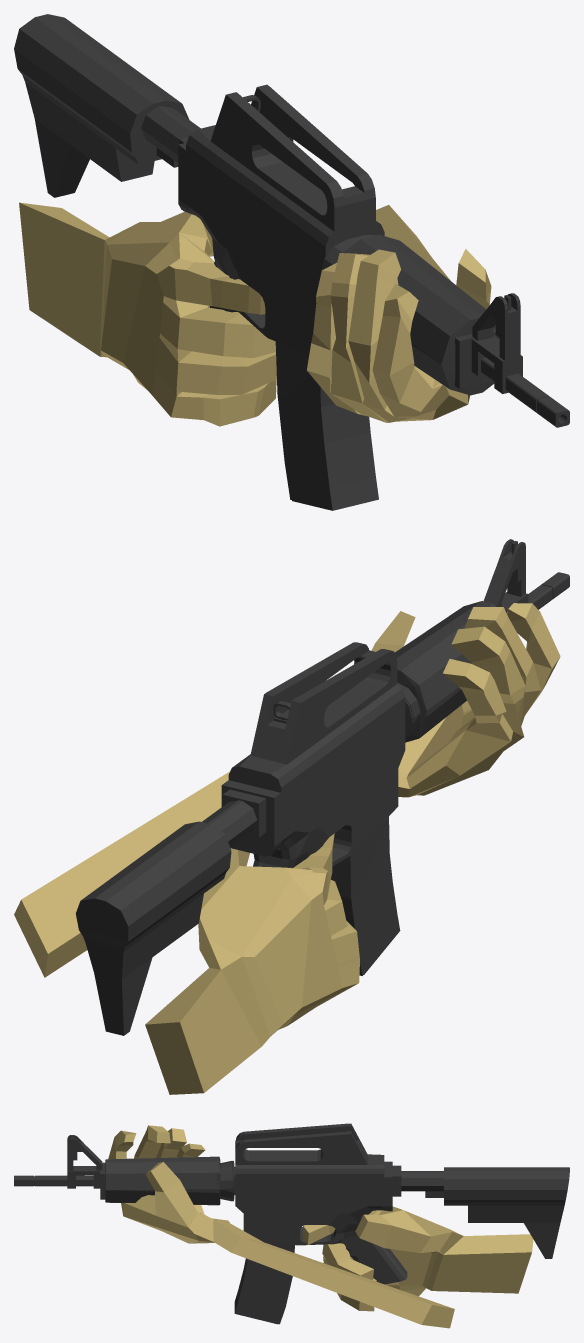
Rendered from ayrı_m4.fbx.
3 renders of one model, top to bottom at view 1: azimuth 30°, elevation 25°; view 2: azimuth 150°, elevation 25°; view 3: azimuth 270°, elevation 25°, orthographic. The views are drawn at different scales.
Visible parts, largest first — view 1: M4Carbine, M4 Carbine, Hand.001, Hand.004, Mag; view 2: M4 Carbine, Hand.001, Hand.004, M4Carbine, Mag; view 3: M4 Carbine, M4Carbine, Hand.004, Hand.001, Mag.
Part boxes in pixels (x1,y1,x2,y2): M4Carbine: [16, 15, 569, 427]; M4 Carbine: [14, 14, 565, 499]; Hand.001: [19, 202, 276, 426]; Hand.004: [306, 205, 491, 422]; Mag: [280, 377, 378, 510]; M4 Carbine: [75, 541, 568, 1035]; Hand.001: [145, 833, 359, 1094]; Hand.004: [14, 603, 560, 977]; M4Carbine: [82, 539, 569, 1033]; Mag: [356, 817, 400, 974]; M4 Carbine: [16, 1123, 569, 1324]; M4Carbine: [14, 1123, 567, 1283]; Hand.004: [108, 1125, 454, 1328]; Hand.001: [302, 1206, 533, 1311]; Mag: [234, 1258, 290, 1324].
Bounding box in the file's own units: 499 × 507 × 1347.
